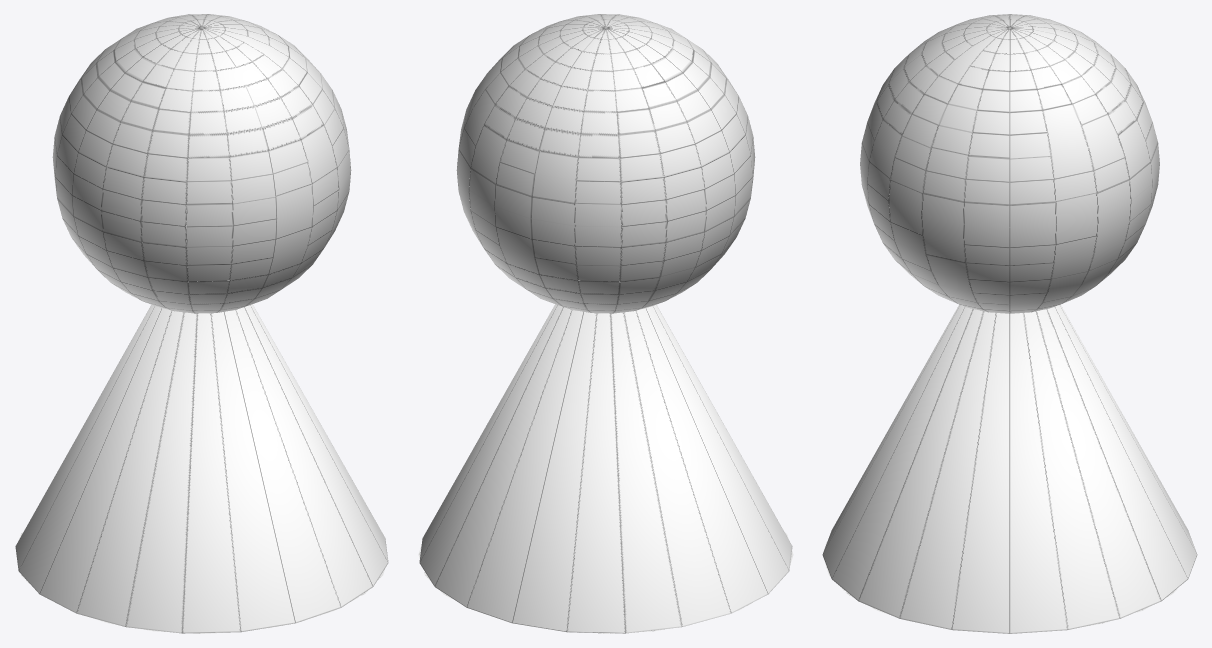
Rendered from player.fbx.
3 views of the same model, side by side, from view 1: azimuth 30°, elevation 25°; view 2: azimuth 150°, elevation 25°; view 3: azimuth 270°, elevation 25° (orthographic).
Parts seen in each view (by area): view 1: pCone2; view 2: pCone2; view 3: pCone2.
Boxes of the visible parts, bbox=[...] form: pCone2: bbox=[15, 14, 388, 633]; pCone2: bbox=[419, 14, 792, 633]; pCone2: bbox=[822, 14, 1197, 633].
Size of the model in its own units: 2 by 3.1 by 2.
